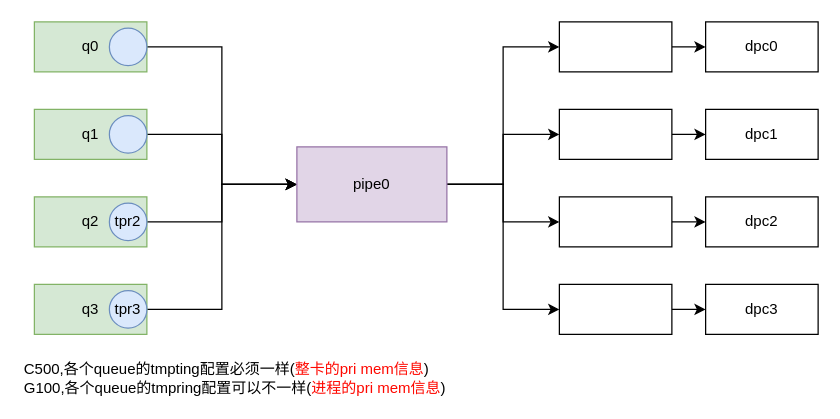
Some shapes in this 840 by 419 pixel diagram are drawn without their labels. Each missing label, with the centre of its shape:
"rm0" belongs at point (615, 46).
"rm1" belongs at point (615, 133).
"rm2" belongs at point (615, 221).
"rm3" belongs at point (615, 308).
"tpr0" belongs at point (127, 46).
"tpr1" belongs at point (127, 133).
